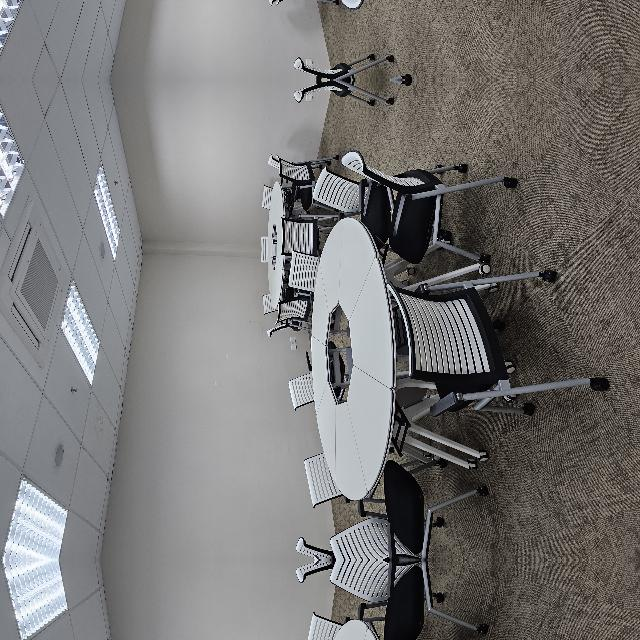obstacle: (0, 363, 412, 640), (0, 433, 412, 640), (449, 370, 478, 476)
